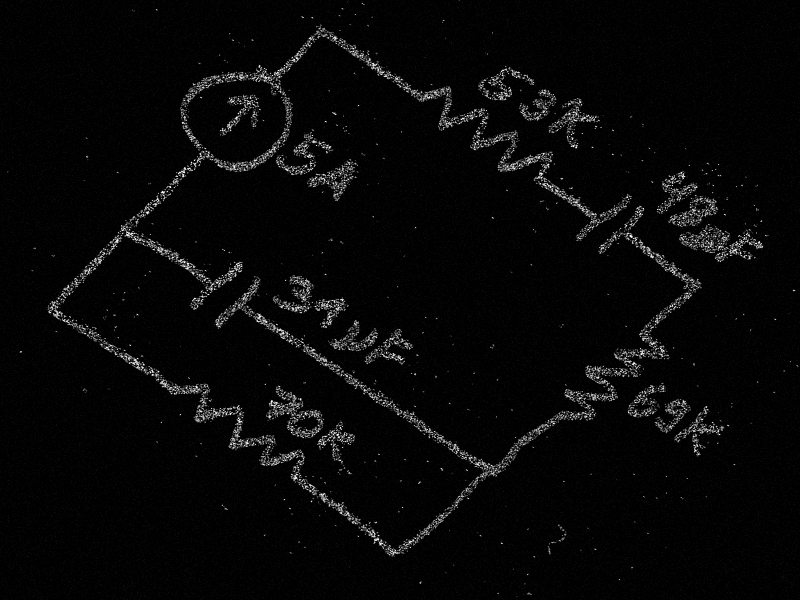0: (281, 402, 331, 445)
1: (302, 286, 355, 335)
3: (264, 268, 327, 322), (512, 83, 562, 128)
4: (640, 163, 702, 221)
5: (272, 125, 337, 185), (473, 58, 537, 113)
6: (619, 375, 676, 428)
7: (250, 380, 308, 432)
8: (667, 189, 721, 238)
9: (647, 393, 696, 439)
A: (305, 149, 366, 205)
F: (361, 325, 422, 381), (715, 227, 768, 277)
k: (539, 91, 609, 154), (667, 400, 734, 462), (311, 417, 365, 465)
u: (327, 314, 383, 363), (685, 221, 732, 262)
